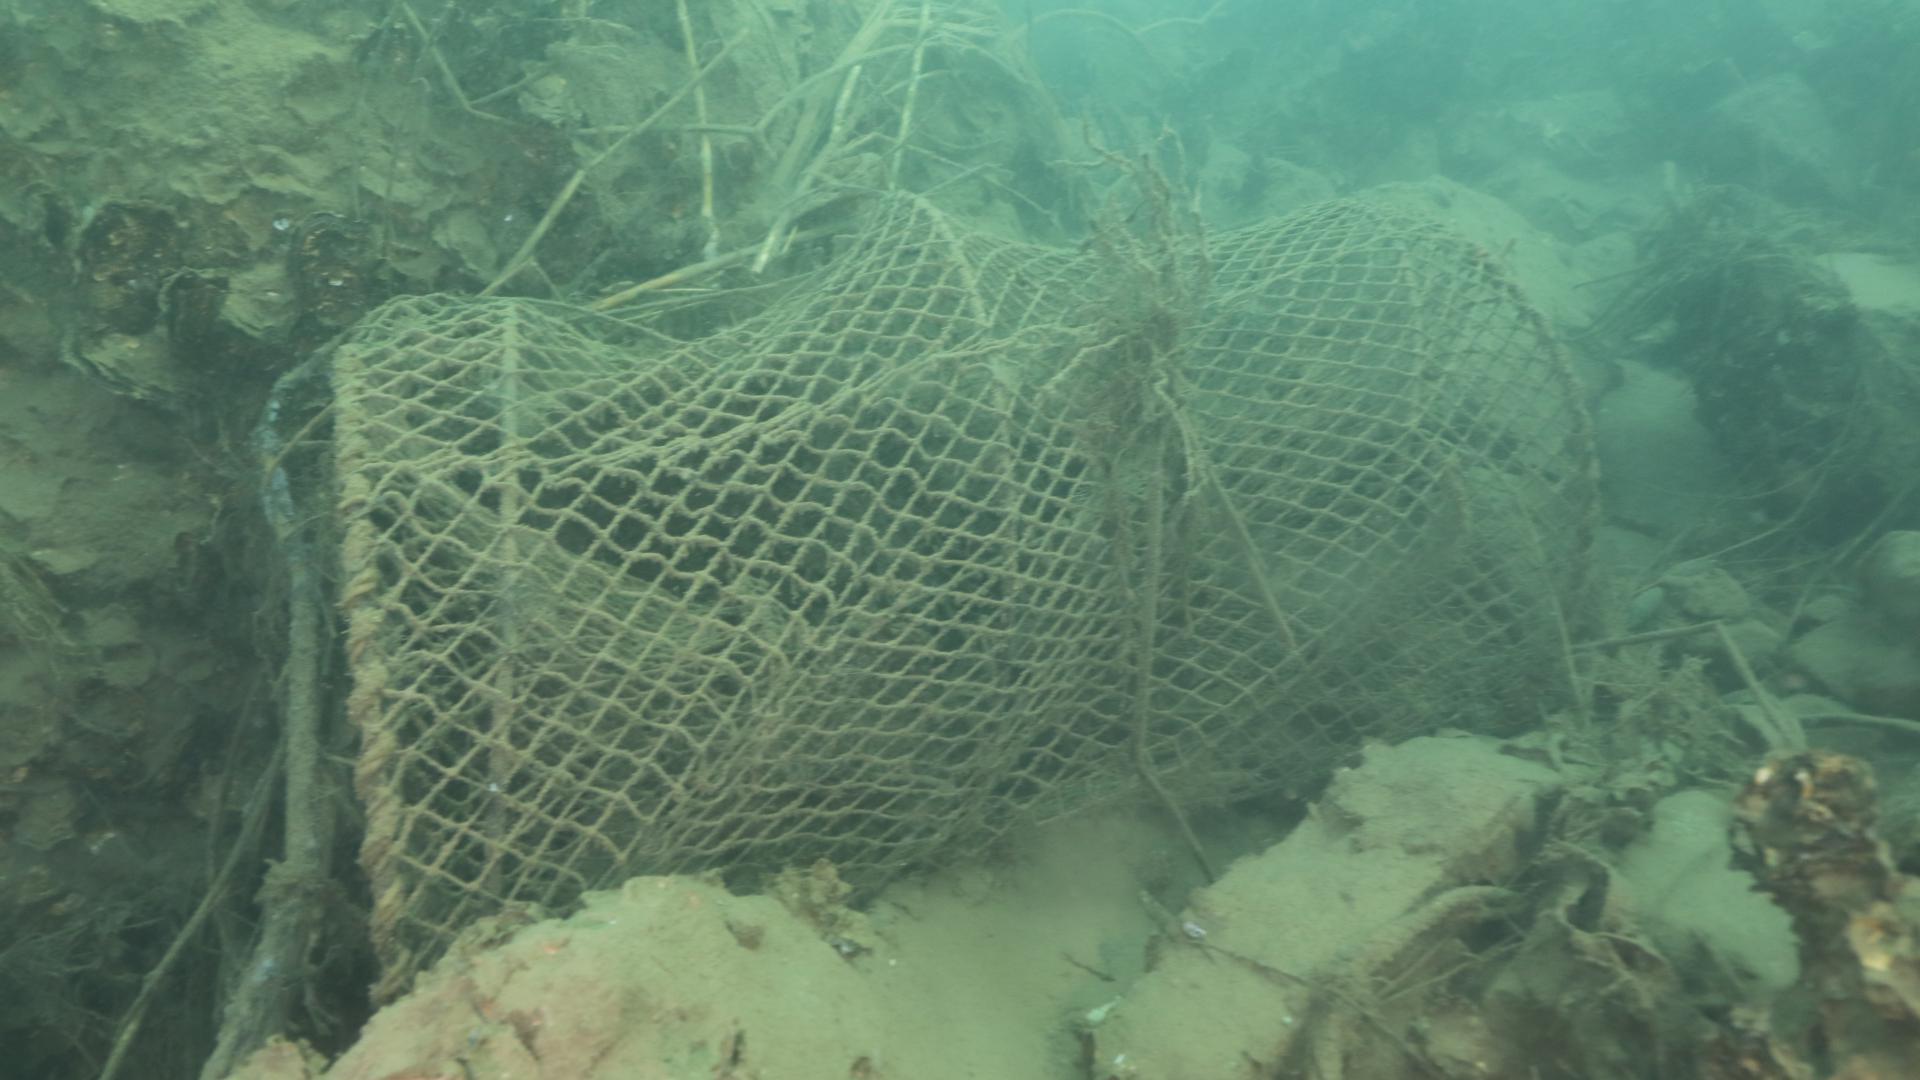spring fish trap: (330, 189, 1600, 1004)
